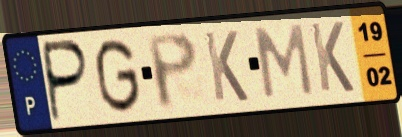G: (93, 36, 144, 117)
K: (307, 19, 357, 95), (201, 29, 251, 104)
M: (252, 21, 316, 101)
P: (144, 29, 201, 113), (42, 37, 92, 125)
